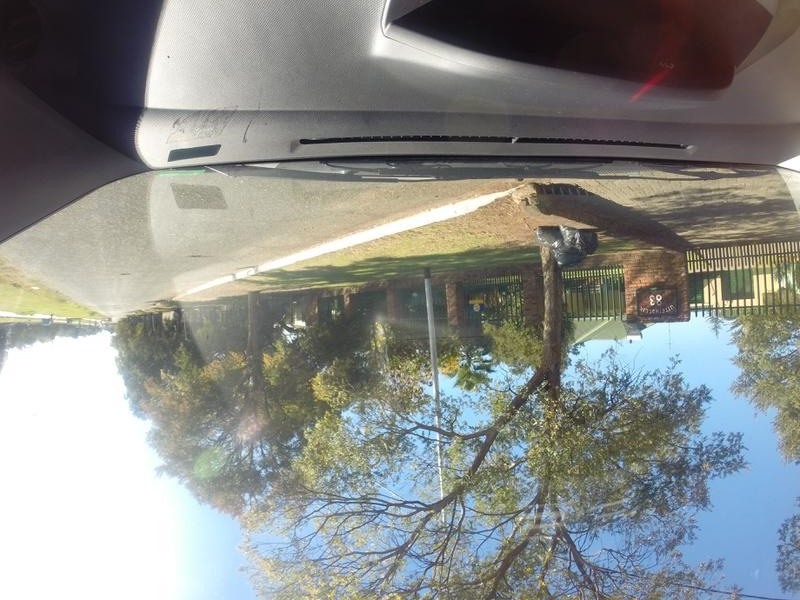pothole: (186, 255, 213, 260), (116, 269, 130, 277)
